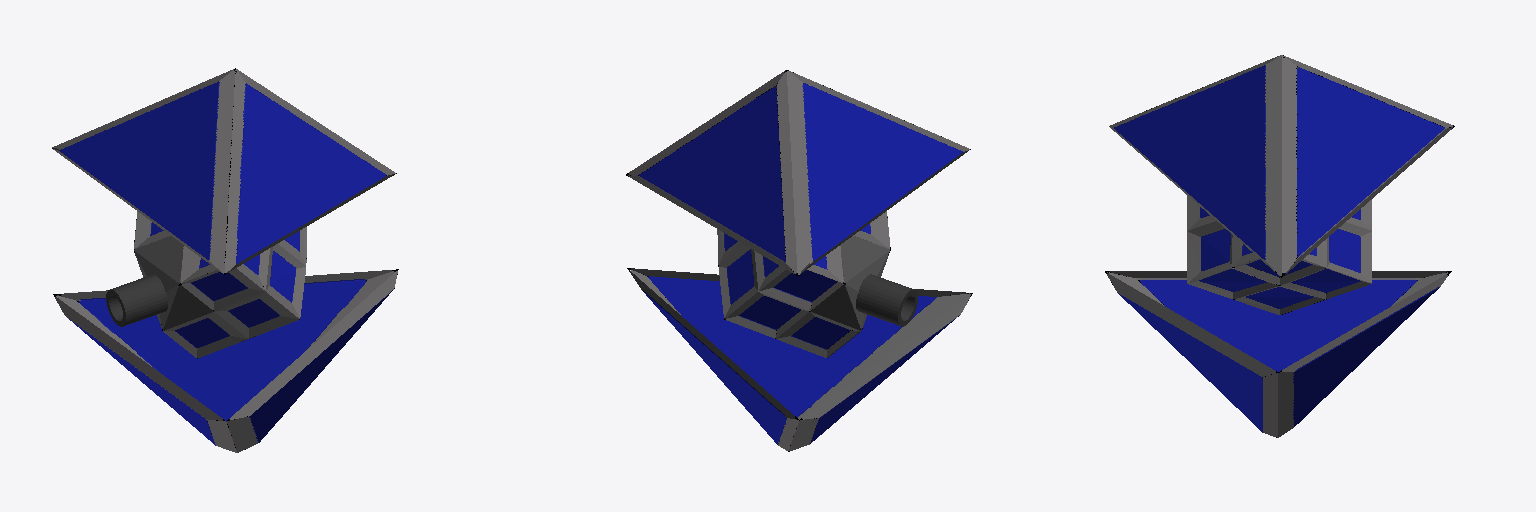
3 views of the same model, side by side, from view 1: azimuth 30°, elevation 25°; view 2: azimuth 150°, elevation 25°; view 3: azimuth 270°, elevation 25° (orthographic).
Visible parts, largest first — view 1: Cube, Cube.001, 立方体, 円柱; view 2: Cube, Cube.001, 立方体, 円柱; view 3: Cube, Cube.001, 立方体.
Part boxes in pixels (x1,y1,x2,y2): Cube: (52, 68, 396, 274); Cube.001: (53, 269, 398, 452); 立方体: (134, 211, 306, 358); 円柱: (106, 275, 167, 326); Cube: (626, 70, 970, 275); Cube.001: (627, 268, 972, 451); 立方体: (717, 195, 890, 357); 円柱: (856, 274, 917, 326); Cube: (1109, 55, 1454, 277); Cube.001: (1105, 271, 1451, 437); 立方体: (1187, 195, 1371, 314).
Size of the model in its own units: 10.68 by 13.81 by 11.43.
Materials: 4 (1 with a texture image).